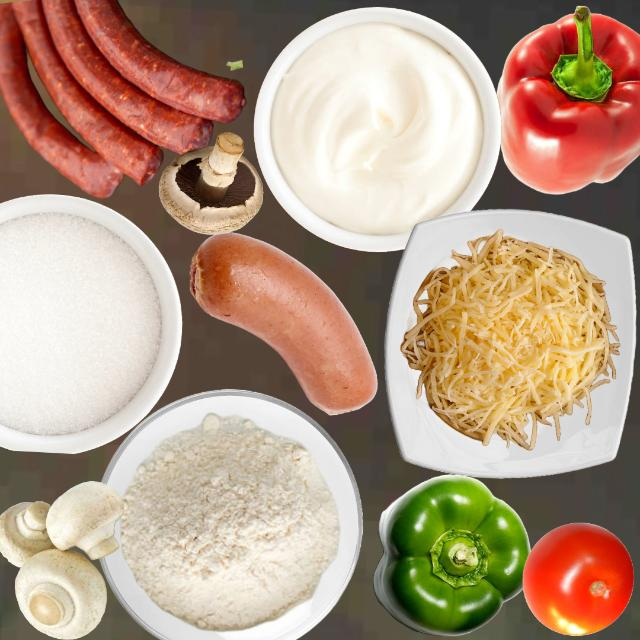Flour: (118, 411, 339, 630)
Sugar: (0, 210, 161, 435)
